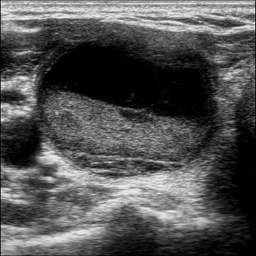mass: (38, 39, 213, 174)
